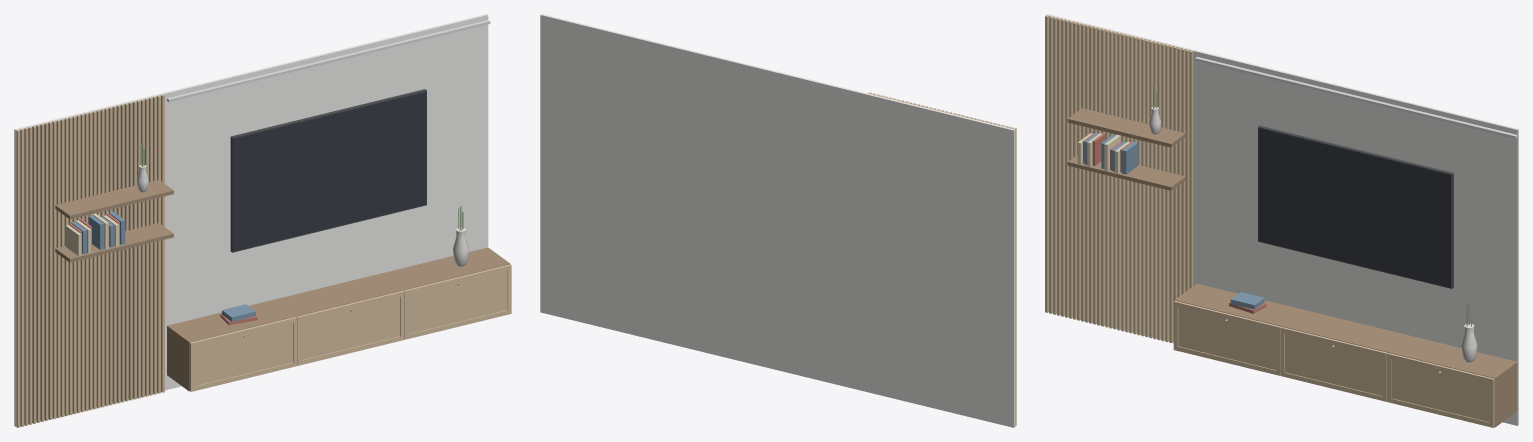
3 views of the same model, side by side, from view 1: azimuth 30°, elevation 25°; view 2: azimuth 150°, elevation 25°; view 3: azimuth 330°, elevation 25° (orthographic).
Parts seen in each view (by area): view 1: Vách tivi Dài=4000; Sâu=350; view 2: Vách tivi Dài=4000; Sâu=350; view 3: Vách tivi Dài=4000; Sâu=350.
Boxes of the visible parts, x1,y1,x2,y2 form: Vách tivi Dài=4000; Sâu=350: (14, 14, 511, 427); Vách tivi Dài=4000; Sâu=350: (540, 14, 1016, 427); Vách tivi Dài=4000; Sâu=350: (1045, 14, 1518, 427).
Bounding box in the file's own units: 4 × 2.4 × 0.39.
